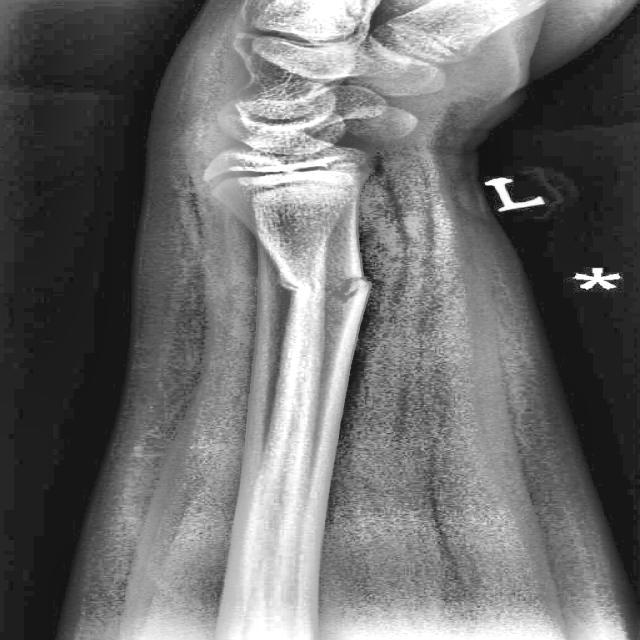fracture: (325, 274, 374, 303), (276, 276, 325, 300)
